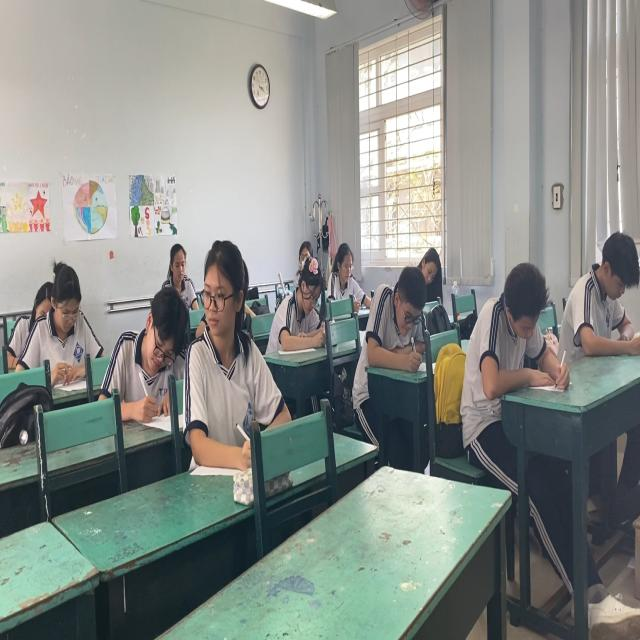cheating: (192, 210, 266, 440)
not_cheating: (466, 261, 560, 392), (115, 281, 198, 420), (562, 226, 640, 368), (20, 261, 105, 375), (350, 261, 420, 381), (263, 237, 329, 340), (323, 230, 368, 309), (160, 247, 204, 309), (411, 244, 447, 298)
